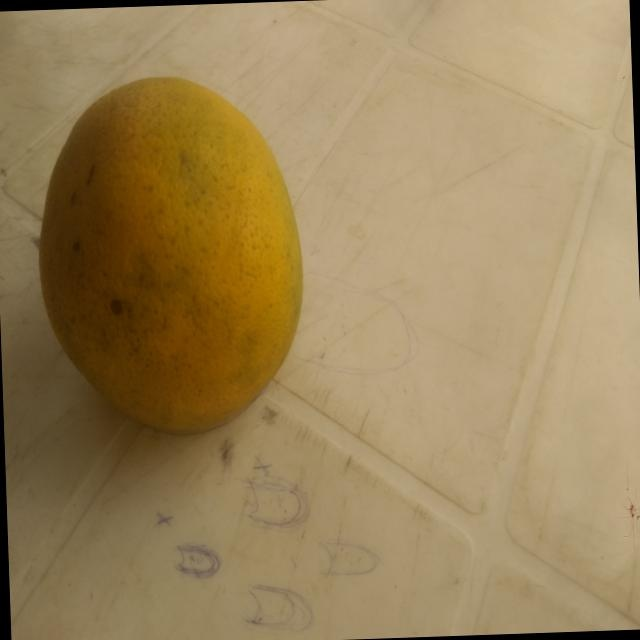agrume: (22, 59, 320, 473)
